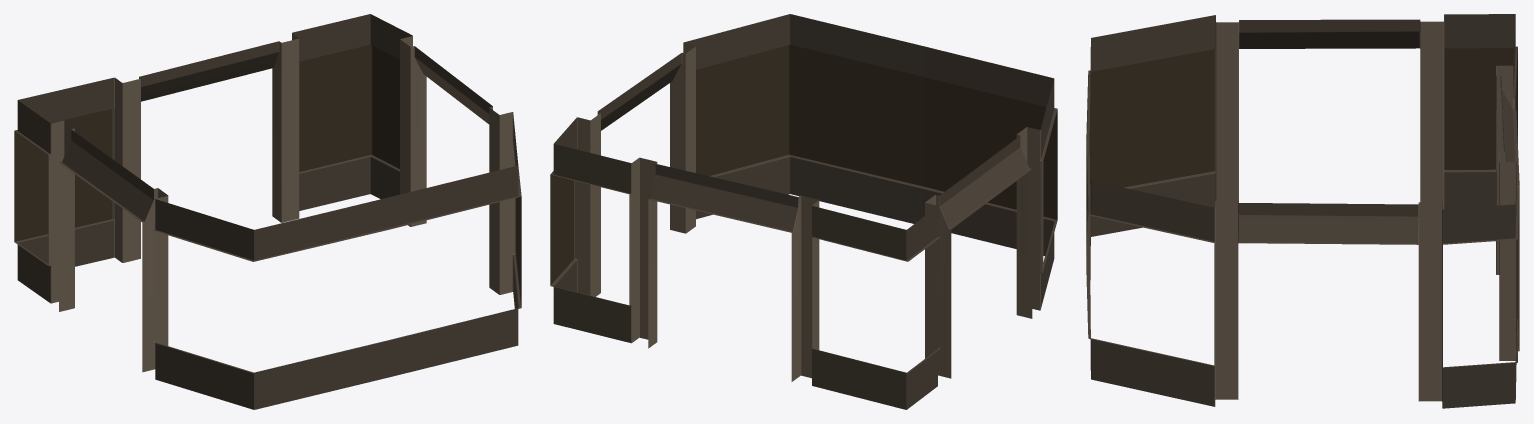
File: AST_titleRoom.fbx
3 renders of one model, left to right at view 1: azimuth 30°, elevation 25°; view 2: azimuth 150°, elevation 25°; view 3: azimuth 270°, elevation 25°, orthographic. The views are drawn at different scales.
Parts seen in each view (by area): view 1: MSH_titleRoom; view 2: MSH_titleRoom; view 3: MSH_titleRoom.
Part boxes in pixels (x1,y1,x2,y2): MSH_titleRoom: (14,14,521,409); MSH_titleRoom: (550,14,1057,409); MSH_titleRoom: (1086,14,1519,408).
Bounding box in the file's own units: 784 × 368 × 725.
